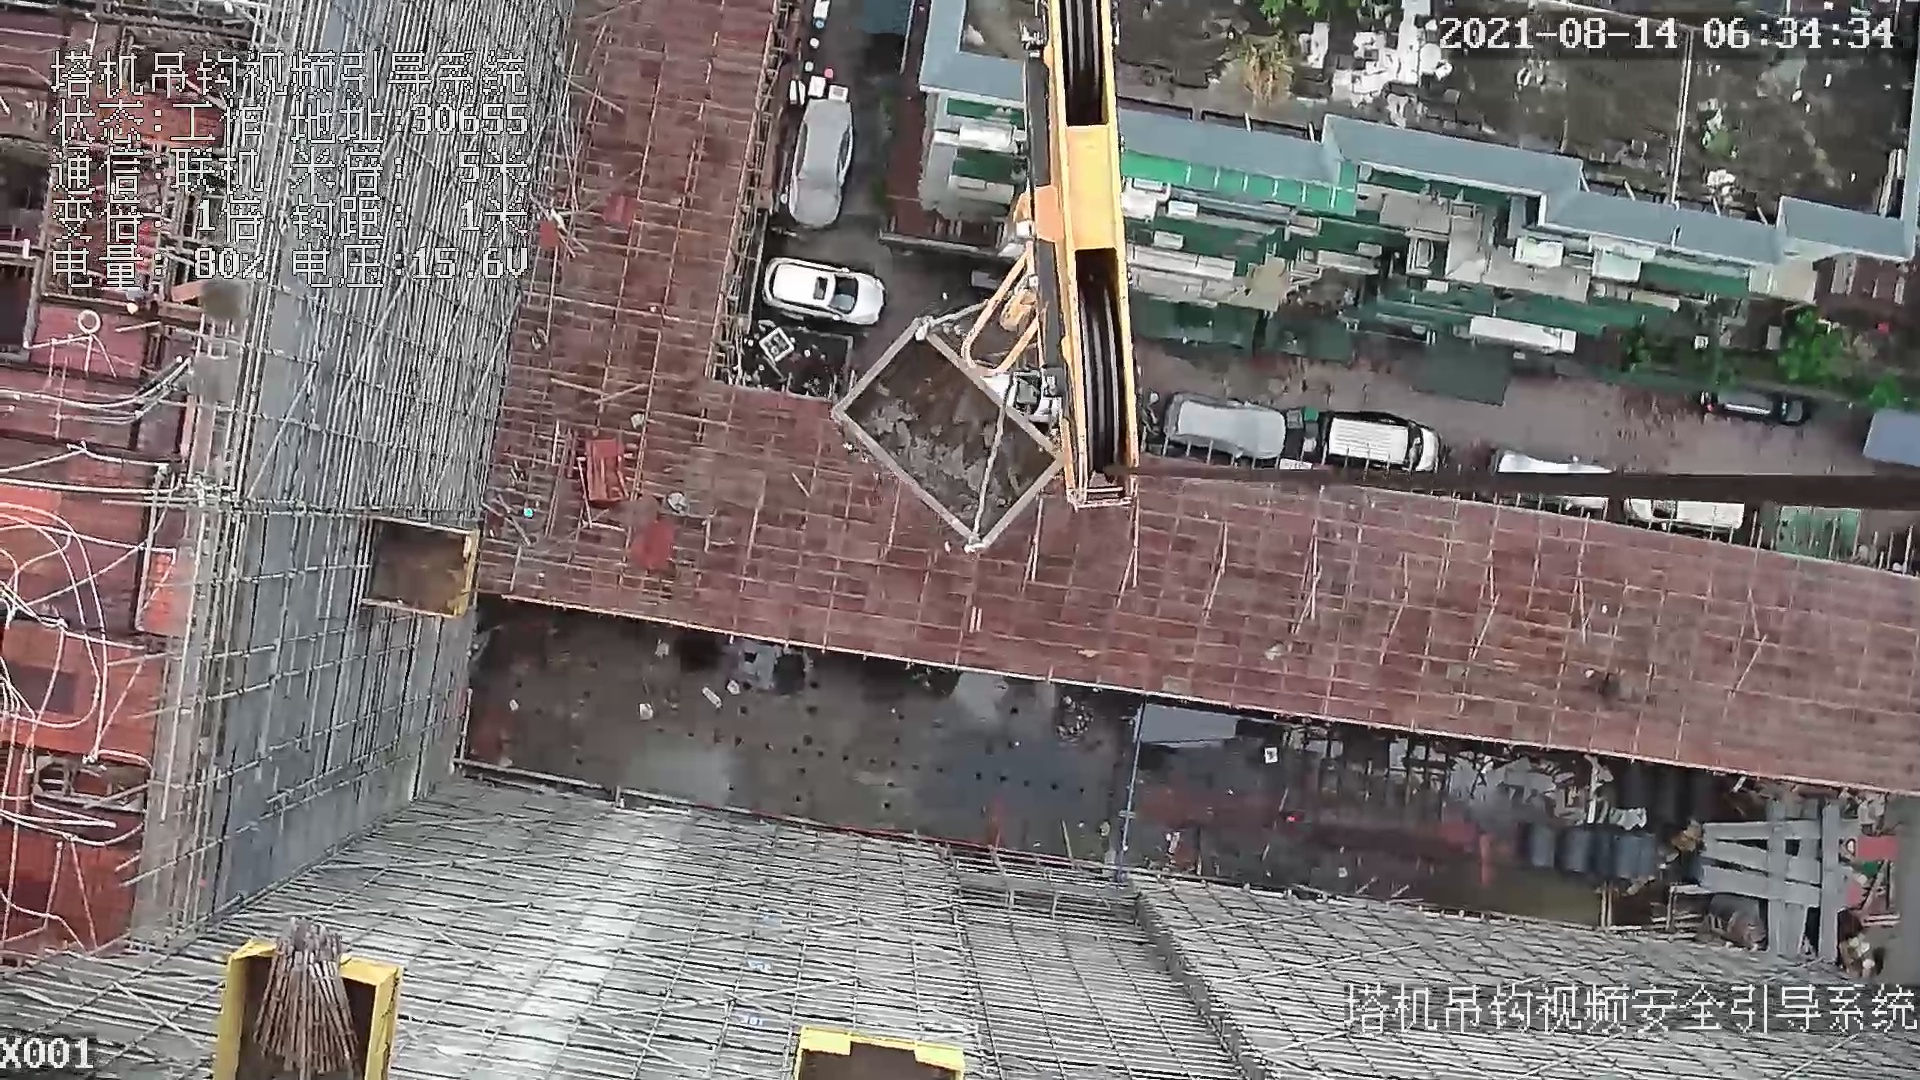hook: (960, 1, 1141, 508)
hopper: (822, 309, 1064, 578)
scaffold: (255, 913, 367, 1076)
